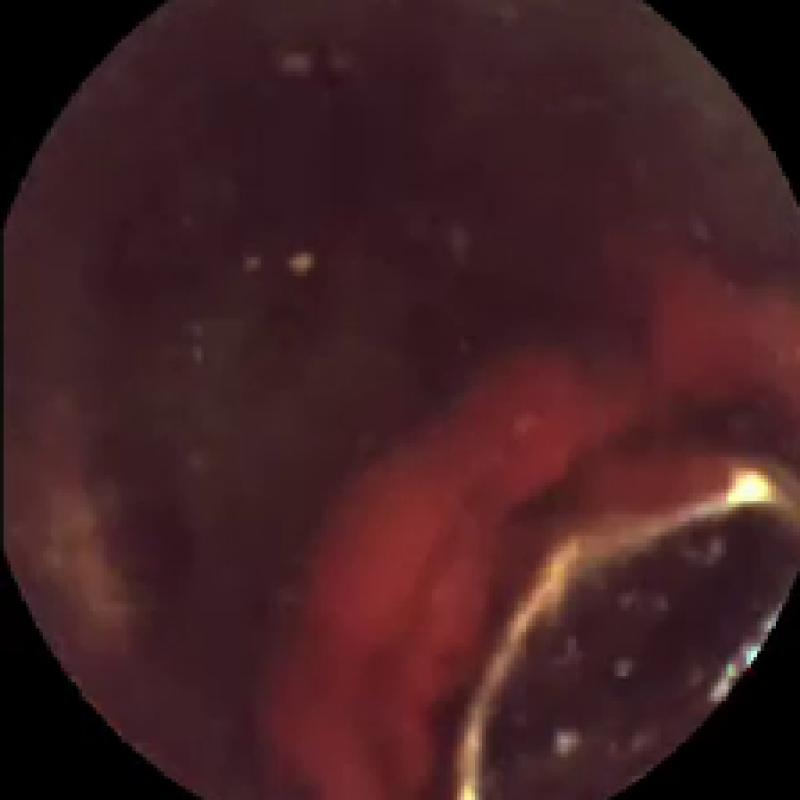bleeding: (268, 210, 800, 800)
